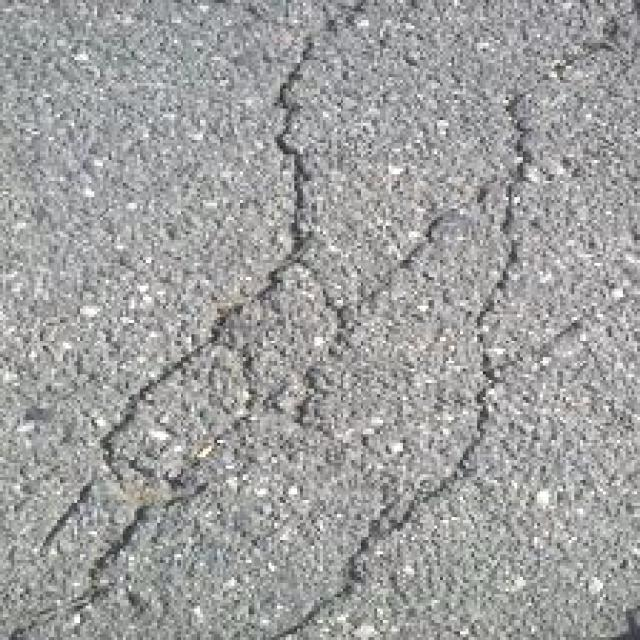crack: (270, 0, 640, 640), (70, 0, 326, 640)
